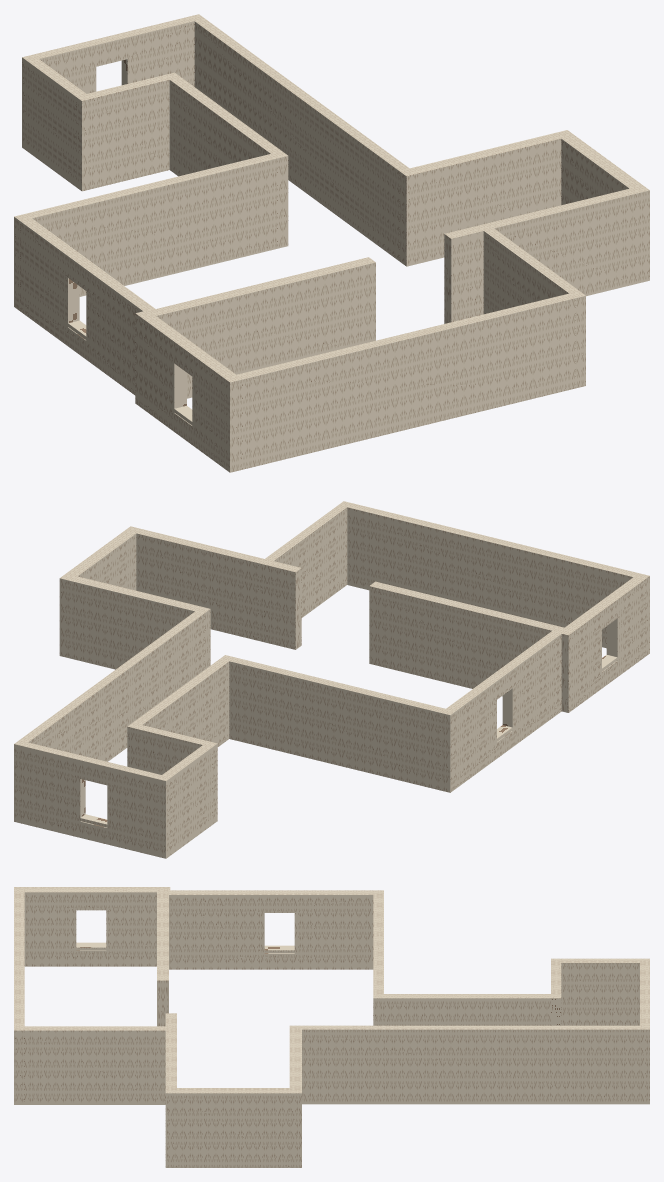
Rendered from Wall.fbx.
The picture shows the model from 3 angles, top to bottom: view 1: azimuth 30°, elevation 25°; view 2: azimuth 150°, elevation 25°; view 3: azimuth 270°, elevation 25°; orthographic projection. The views are drawn at different scales.
Parts seen in each view (by area): view 1: Wall; view 2: Wall; view 3: Wall.
Boxes of the visible parts, x1=… form: Wall: x1=14, y1=14, x2=649, y2=472; Wall: x1=14, y1=501, x2=649, y2=858; Wall: x1=14, y1=887, x2=649, y2=1167.
Size of the model in its own units: 17.72 by 2.99 by 23.1.
